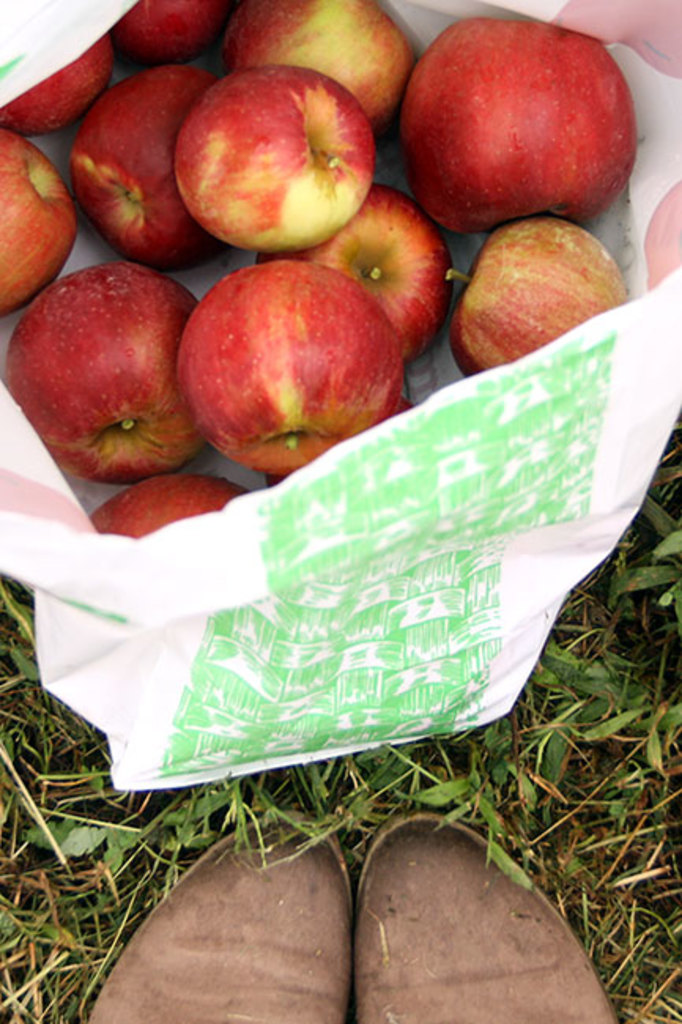Apple: (0, 0, 626, 540), (396, 15, 636, 214)
